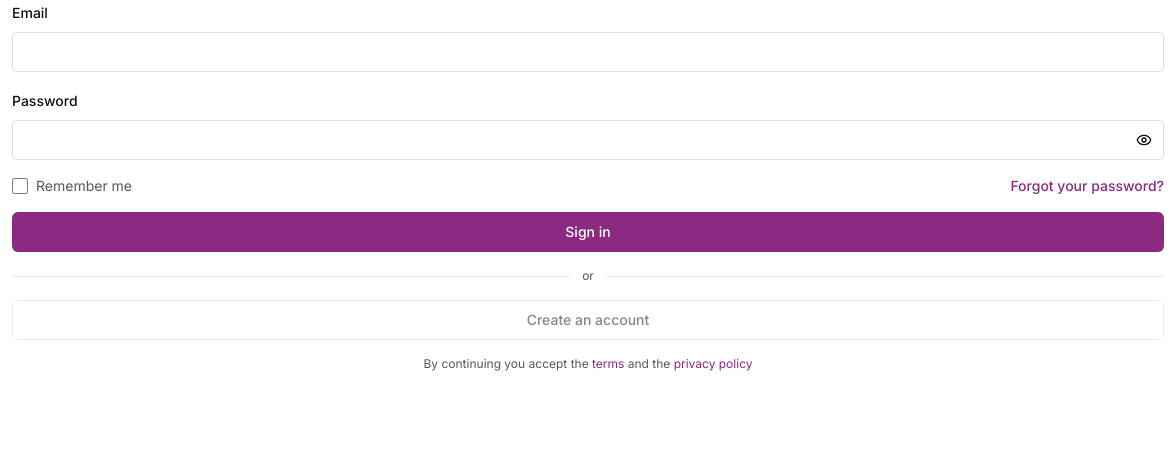
Test: login form — API failures › shows the rate-limit message and disables the submit on 429
The width and height of the screenshot is (1176, 458).
Type "user@example.com" into the field labelled "Email". click: (588, 52)
box: [12,32,1164,72]
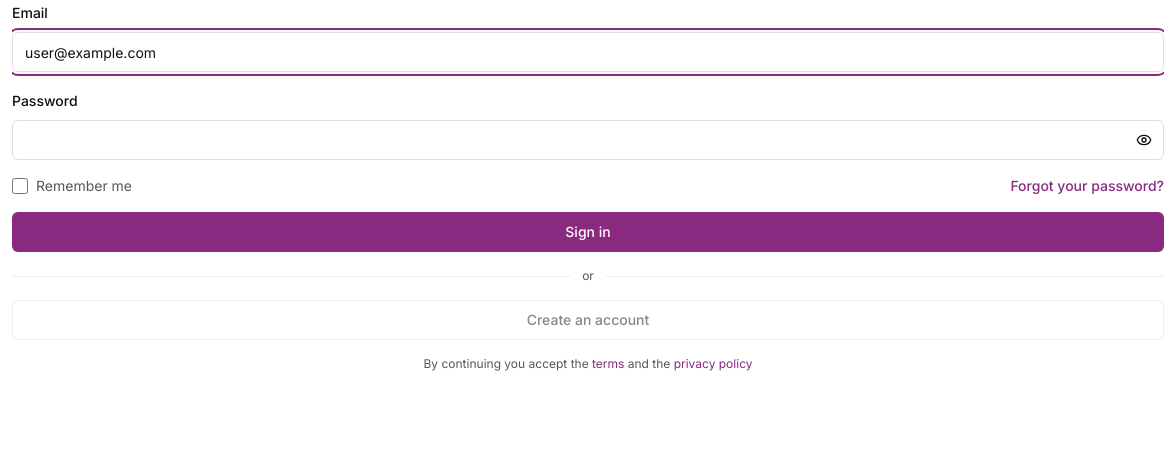
Type "secret" into the password field labelled "Password". click: (588, 140)
box: [12,120,1164,160]
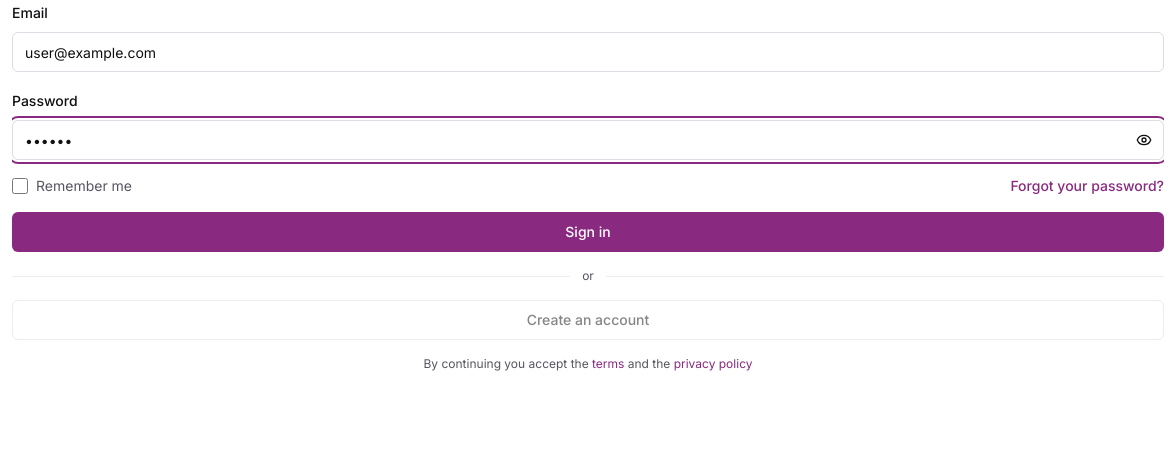
Click the button "Sign in". click: (588, 232)
box: [12,212,1164,252]
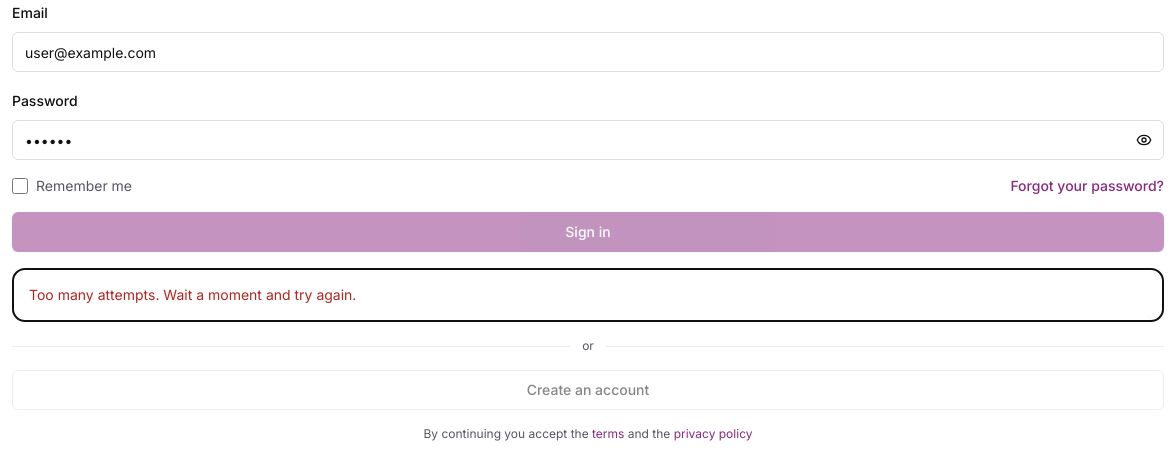
Now the message reads "Too many attempts. Wait a moment and try again.", box [29,286,356,303]
Now the button "Sign in" is disabled, box [12,212,1164,252]
